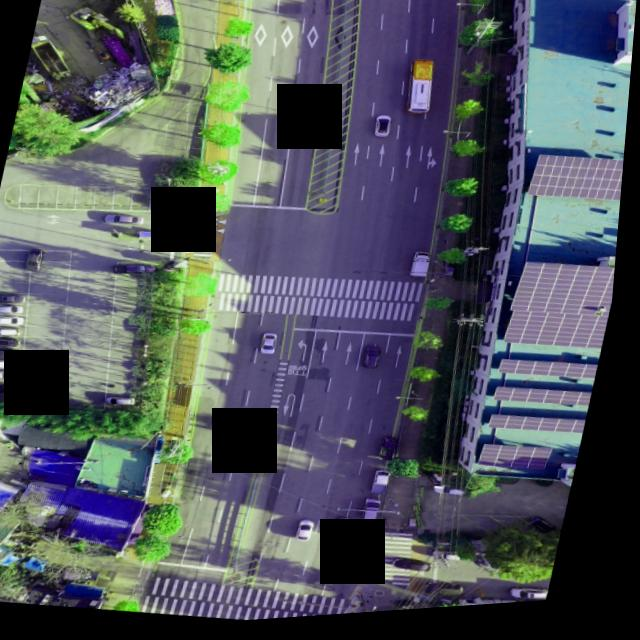car: (397, 561, 445, 583), (121, 261, 165, 280), (26, 246, 52, 275), (521, 593, 559, 610), (367, 500, 390, 527), (108, 214, 148, 229), (442, 489, 477, 506), (534, 523, 566, 541), (24, 369, 60, 384), (368, 348, 389, 373), (374, 119, 394, 142), (266, 334, 286, 357), (0, 334, 28, 350), (0, 312, 29, 327), (0, 302, 29, 317), (0, 323, 28, 338), (112, 396, 144, 409), (306, 523, 324, 546), (442, 556, 473, 569), (0, 345, 26, 360), (0, 292, 26, 306), (0, 355, 20, 370), (0, 368, 19, 383), (0, 380, 15, 395)
large_bus: (400, 63, 439, 122)
medium_truck: (25, 29, 84, 88)
small_truck: (338, 522, 376, 552), (408, 253, 440, 287), (435, 585, 477, 605), (375, 473, 402, 502), (386, 442, 406, 467)
